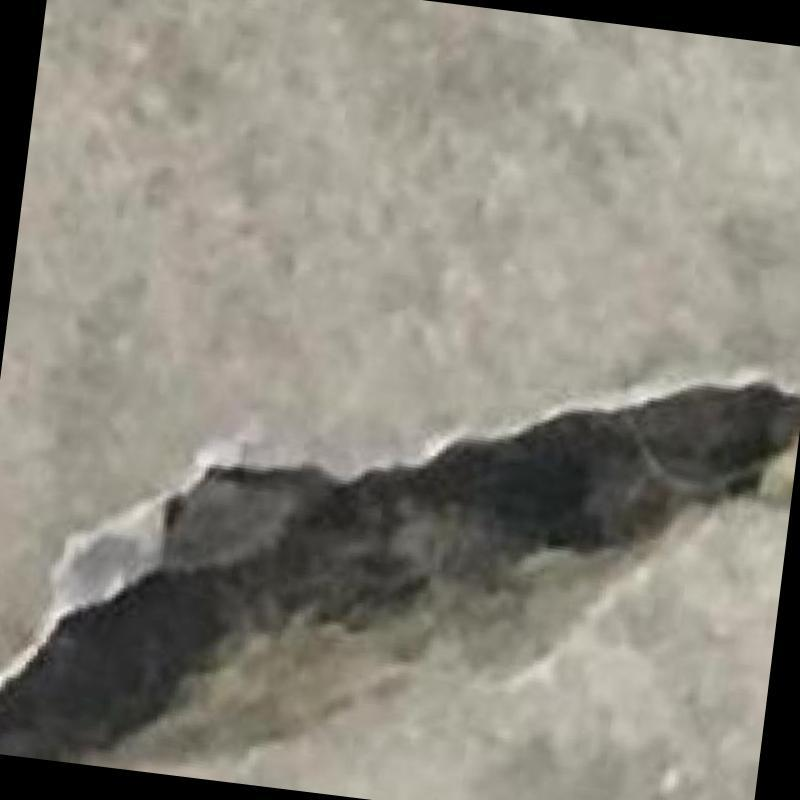pothole: (0, 383, 800, 760)
